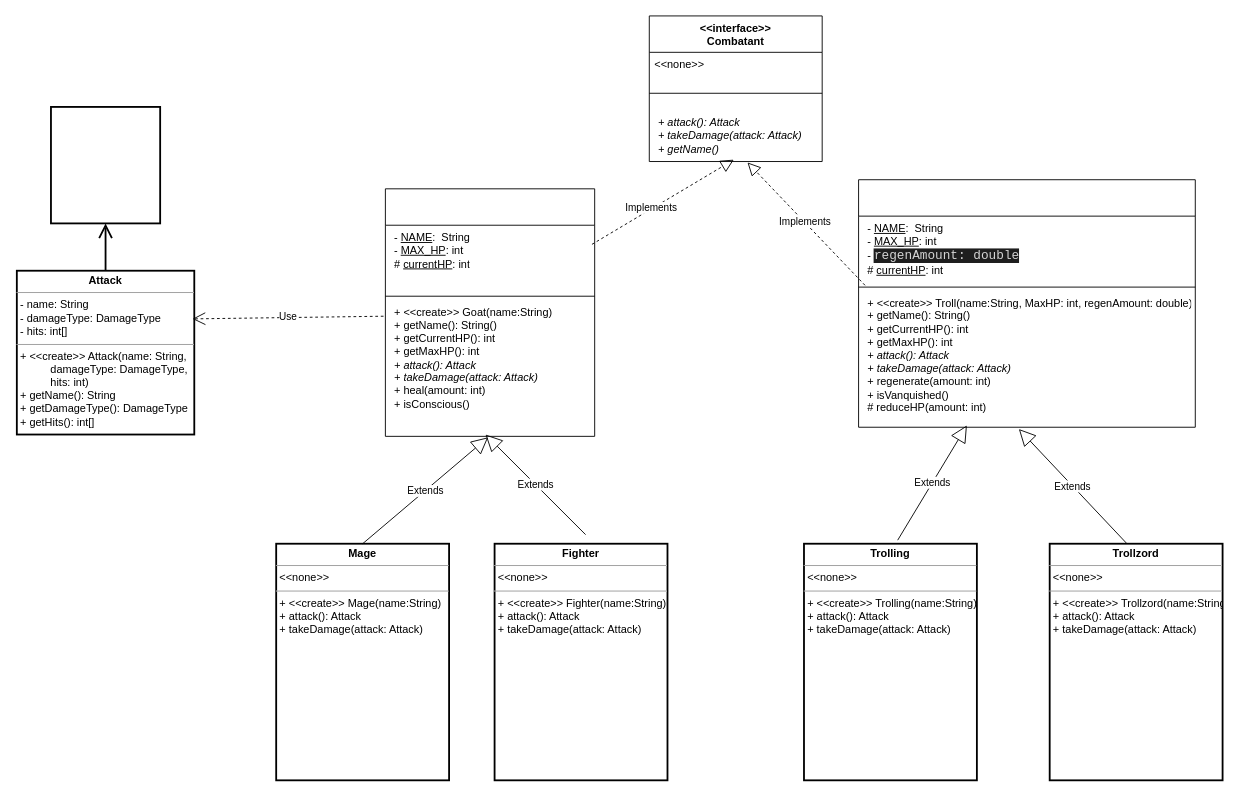
The diagram is 1244 pixels wide and 797 high, and some of its shapes have lost their labels. The box of each missing label's shape, as (x1, y1, x2, y2) in pixels:
<<abstract>> Goat: (384, 188, 595, 436)
<<abstract>> Troll: (858, 179, 1195, 427)
<<enum>> DamageType + PHYSICAL + MAGICAL + POISON + HOLY + ELEMENTAL: (50, 106, 161, 224)
